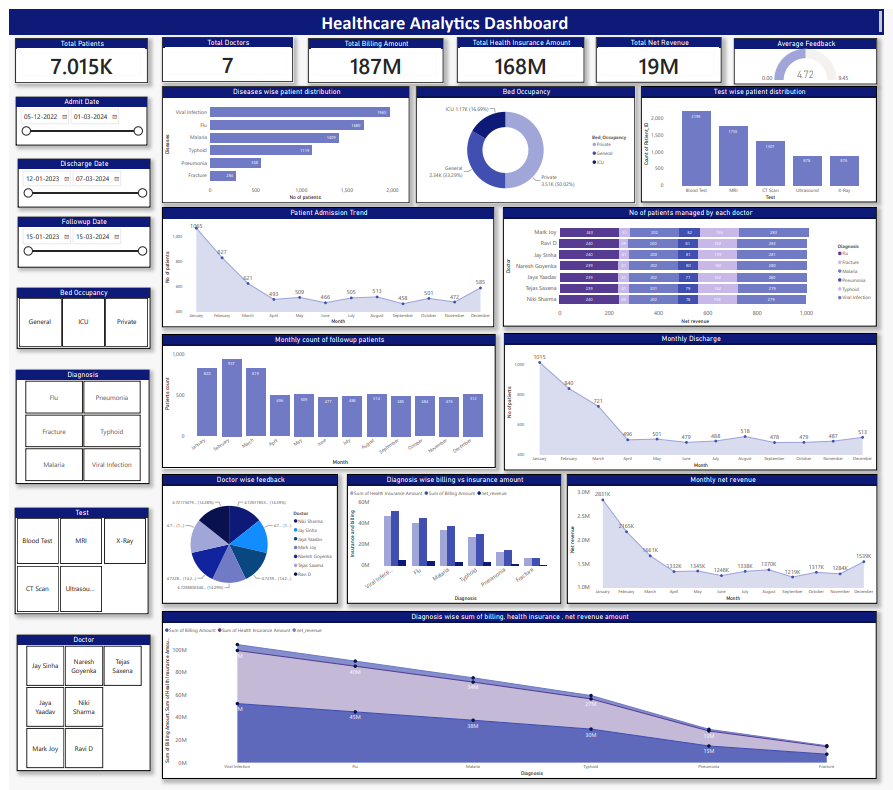

What the dashboard file says about the page in this screenshot:
{"tool":"powerbi","page":{"name":"Page 1","canvas":[2500,2200],"ordinal":0},"visuals":[{"type":"cardVisual","title":"Total Doctors","fields":{"Data":["Count(Healthcare Dataset.Doctor)"]},"box":[437.5,79.2,375,129.2],"z":0},{"type":"cardVisual","title":"Total Billing Amount","fields":{"Data":["Sum(Healthcare Dataset.Billing Amount)"]},"box":[854.2,83.3,387.5,129.2],"z":1000},{"type":"cardVisual","title":"Total Net Revenue","fields":{"Data":["Healthcare Dataset.net_revenue"]},"box":[1677.1,79.2,360.4,131.2],"z":2000},{"type":"cardVisual","title":"Total Health Insurance Amount","fields":{"Data":["Sum(Healthcare Dataset.Health Insurance Amount)"]},"box":[1281.2,79.2,364.6,131.2],"z":3000},{"type":"textbox","box":[0,0,2500,71.9],"z":4000},{"type":"barChart","title":"Diseases wise patient distribution","fields":{"Category":["Healthcare Dataset.Diagnosis"],"Y":["CountNonNull(Healthcare Dataset.Patient_ID)"]},"box":[437.5,218.8,708.3,335.4],"z":5000},{"type":"areaChart","title":"Patient Admission Trend","fields":{"Y":["CountNonNull(Healthcare Dataset.Patient_ID)"],"Category":["Healthcare Dataset.Admit_Date.Variation.Date Hierarchy.Month"]},"box":[437.5,566.7,950,343.8],"z":6000},{"type":"slicer","title":"Diagnosis","fields":{"Values":["Healthcare Dataset.Diagnosis"]},"box":[20.8,1031.2,381.2,325],"z":7000},{"type":"advancedSlicerVisual","title":"Bed Occupancy","fields":{"Values":["Healthcare Dataset.Bed_Occupancy"]},"box":[22.9,797.9,381.2,172.9],"z":8000},{"type":"advancedSlicerVisual","fields":{"Values":["Healthcare Dataset.Test"]},"box":[15.7,1425.7,381.4,302.9],"z":9000},{"type":"slicer","title":"Admit Date","fields":{"Values":["Healthcare Dataset.Admit_Date"]},"box":[18.8,250,375,137.5],"z":10000},{"type":"slicer","title":"Doctor","fields":{"Values":["Healthcare Dataset.Doctor"]},"box":[21.9,1787.5,381.2,387.5],"z":11000},{"type":"cardVisual","title":"Total Patients","fields":{"Data":["Count(Healthcare Dataset.Patient_ID)"]},"box":[16.3,81.6,379.6,128.6],"z":12000},{"type":"donutChart","title":"Bed Occupancy","fields":{"Category":["Healthcare Dataset.Bed_Occupancy"],"Y":["CountNonNull(Healthcare Dataset.Patient_ID)"]},"box":[1162.5,218.8,627.1,335.4],"z":13000},{"type":"clusteredColumnChart","title":"Diagnosis wise billing vs insurance amount","fields":{"Y":["Sum(Healthcare Dataset.Health Insurance Amount)","Sum(Healthcare Dataset.Billing Amount)","Healthcare Dataset.net_revenue"],"Category":["Healthcare Dataset.Diagnosis"]},"box":[964.4,1328.9,613.3,371.1],"z":14000},{"type":"barChart","title":"No of patients managed by each doctor","fields":{"Category":["Healthcare Dataset.Doctor"],"Y":["CountNonNull(Healthcare Dataset.Patient_ID)"],"Series":["Healthcare Dataset.Diagnosis"]},"box":[1411.5,565.4,1069.2,342.3],"z":15000},{"type":"gauge","title":"Average Feedback","fields":{"Y":["Avg(Healthcare Dataset.Feedback)"]},"box":[2070.8,83.3,410.4,133.3],"z":16000},{"type":"pieChart","title":"Doctor wise feedback","fields":{"Category":["Healthcare Dataset.Doctor"],"Y":["Avg(Healthcare Dataset.Feedback)"]},"box":[437.1,1328.6,502.9,371.4],"z":17000},{"type":"columnChart","title":"Test wise patient distribution","fields":{"Category":["Healthcare Dataset.Test"],"Y":["CountNonNull(Healthcare Dataset.Patient_ID)"]},"box":[1806.2,218.8,675,333.3],"z":18000},{"type":"areaChart","title":"Monthly net revenue","fields":{"Category":["Healthcare Dataset.Admit_Date.Variation.Date Hierarchy.Month"],"Y":["Healthcare Dataset.net_revenue"]},"box":[1592.9,1328.6,888.1,371.4],"z":19000},{"type":"areaChart","title":"Monthly Discharge","fields":{"Y":["CountNonNull(Healthcare Dataset.Patient_ID)"],"Category":["Healthcare Dataset.Discharge_Date.Variation.Date Hierarchy.Month"]},"box":[1414.3,926.2,1066.7,392.9],"z":20000},{"type":"columnChart","title":"Monthly count of followup patients","fields":{"Category":["Healthcare Dataset.Followup Date.Variation.Date Hierarchy.Month"],"Y":["CountNonNull(Healthcare Dataset.Patient_ID)"]},"box":[437.1,928.6,954.3,382.9],"z":21000},{"type":"stackedAreaChart","title":"Diagnosis wise sum of billing, health insurance , net revenue amount","fields":{"Category":["Healthcare Dataset.Diagnosis"],"Y":["Sum(Healthcare Dataset.Billing Amount)","Sum(Healthcare Dataset.Health Insurance Amount)","Healthcare Dataset.net_revenue"]},"box":[437.1,1720,2042.9,480],"z":22000},{"type":"slicer","title":"Discharge Date","fields":{"Values":["Healthcare Dataset.Discharge_Date"]},"box":[25,428.1,378.1,137.5],"z":23000},{"type":"slicer","title":"Followup Date","fields":{"Values":["Healthcare Dataset.Followup Date"]},"box":[25,593.8,378.1,143.8],"z":24000}]}

Visuals, with their boxes in screenshot pixels (x1, y1, x2, y2), scaled from the page's 2500x2200 canvas onto the 893x790 screenshot:
"Total Doctors" cardVisual: 156 28 290 75
"Total Billing Amount" cardVisual: 305 30 444 76
"Total Net Revenue" cardVisual: 599 28 728 76
"Total Health Insurance Amount" cardVisual: 458 28 588 76
textbox: 0 0 892 26
"Diseases wise patient distribution" barChart: 156 79 409 199
"Patient Admission Trend" areaChart: 156 203 496 327
"Diagnosis" slicer: 7 370 144 487
"Bed Occupancy" advancedSlicerVisual: 8 287 144 349
advancedSlicerVisual - Healthcare Dataset.Test: 6 512 142 621
"Admit Date" slicer: 7 90 141 139
"Doctor" slicer: 8 642 144 781
"Total Patients" cardVisual: 6 29 141 75
"Bed Occupancy" donutChart: 415 79 639 199
"Diagnosis wise billing vs insurance amount" clusteredColumnChart: 344 477 564 610
"No of patients managed by each doctor" barChart: 504 203 886 326
"Average Feedback" gauge: 740 30 886 78
"Doctor wise feedback" pieChart: 156 477 336 610
"Test wise patient distribution" columnChart: 645 79 886 198
"Monthly net revenue" areaChart: 569 477 886 610
"Monthly Discharge" areaChart: 505 333 886 474
"Monthly count of followup patients" columnChart: 156 333 497 471
"Diagnosis wise sum of billing, health insurance , net revenue amount" stackedAreaChart: 156 618 886 789
"Discharge Date" slicer: 9 154 144 203
"Followup Date" slicer: 9 213 144 265
